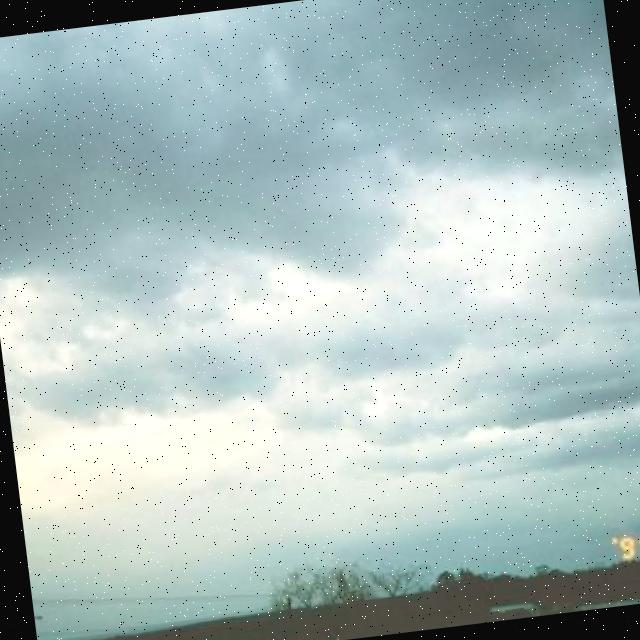Ns: (1, 61, 640, 543)
